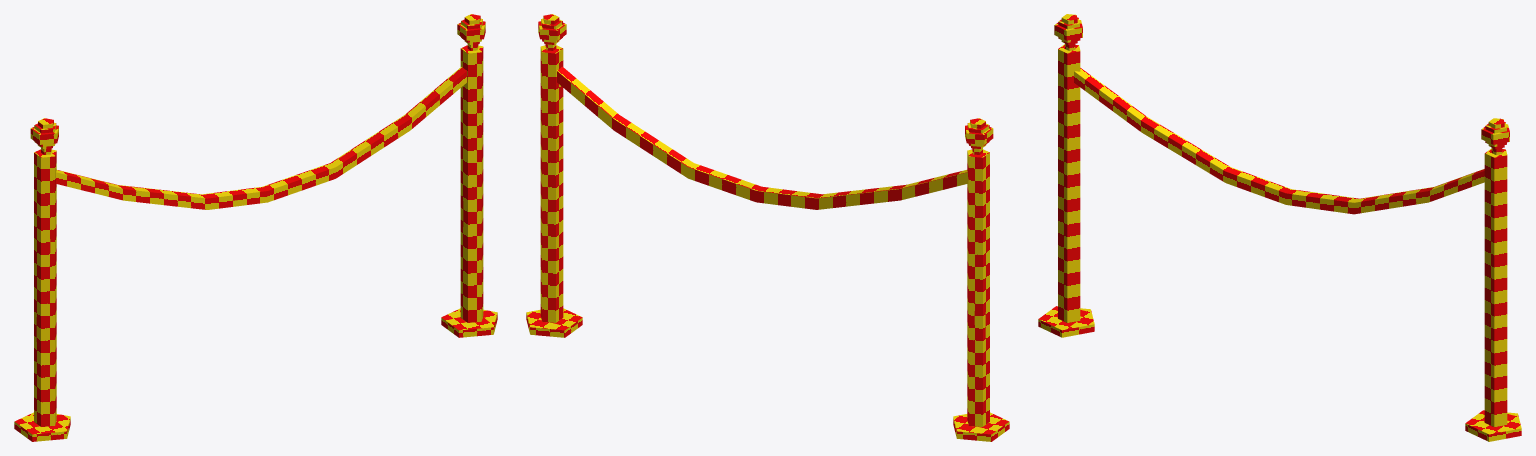
File: Stanchion_Model.fbx
3 views of the same model, side by side, from view 1: azimuth 30°, elevation 25°; view 2: azimuth 150°, elevation 25°; view 3: azimuth 330°, elevation 25° (orthographic).
Visible parts, largest first — view 1: polySurface1; view 2: polySurface1; view 3: polySurface1.
Part boxes in pixels (box(x1,y1,x2,y2)): polySurface1: box(14, 14, 497, 441); polySurface1: box(526, 14, 1009, 441); polySurface1: box(1038, 14, 1521, 441).
Size of the model in its own units: 1.06 by 0.6555 by 0.111.
Materials: 1 (1 with a texture image).
